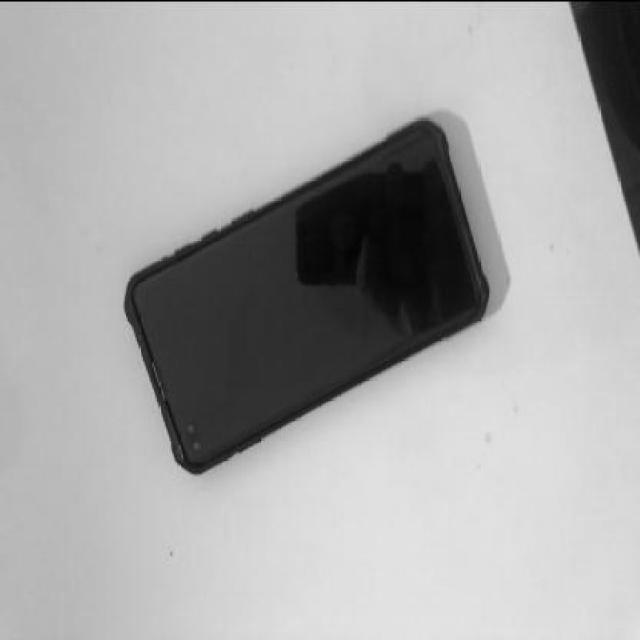fake: (122, 108, 492, 478)
